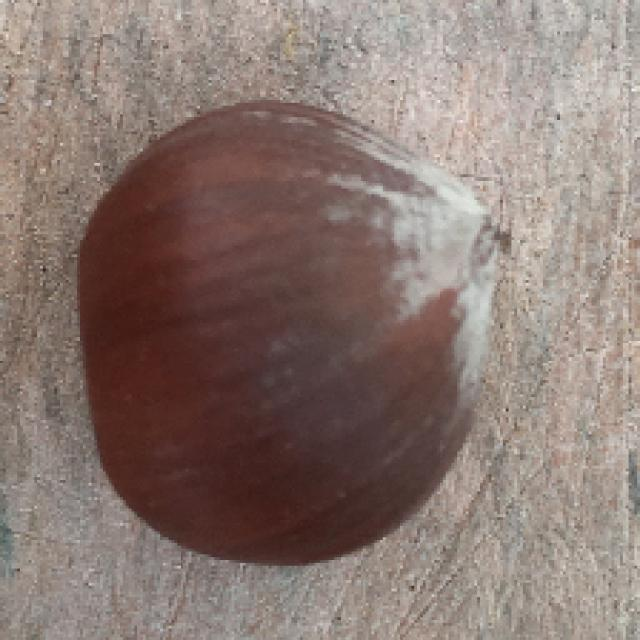DamagedHazelnut: (74, 104, 512, 568)
